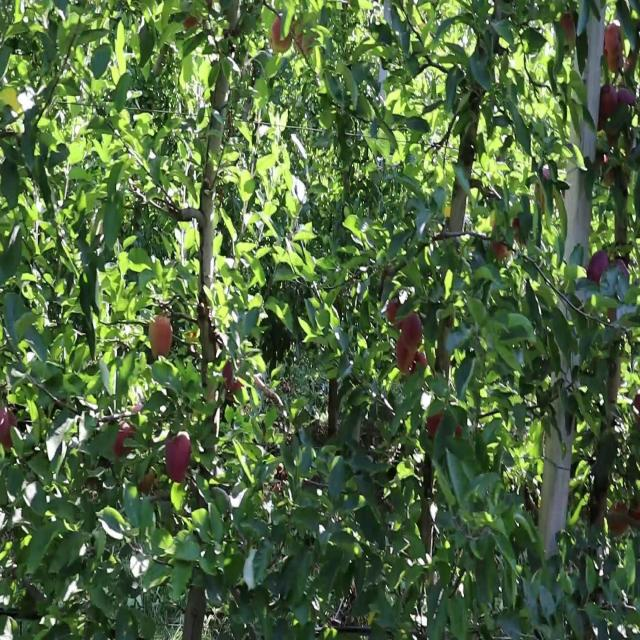apple: (164, 433, 192, 482), (148, 312, 174, 357), (396, 334, 423, 377), (400, 312, 424, 348), (604, 28, 624, 71), (272, 14, 292, 55), (116, 426, 137, 460), (396, 341, 415, 377), (296, 21, 315, 57), (588, 255, 609, 284), (600, 85, 618, 117), (224, 362, 242, 393), (612, 504, 628, 537), (0, 412, 16, 441), (140, 469, 156, 496), (428, 412, 443, 439), (560, 14, 576, 39), (388, 298, 401, 327), (492, 241, 508, 261), (416, 348, 428, 372), (620, 92, 636, 107), (184, 14, 199, 30), (4, 428, 12, 453), (632, 504, 640, 524), (636, 391, 640, 418)
